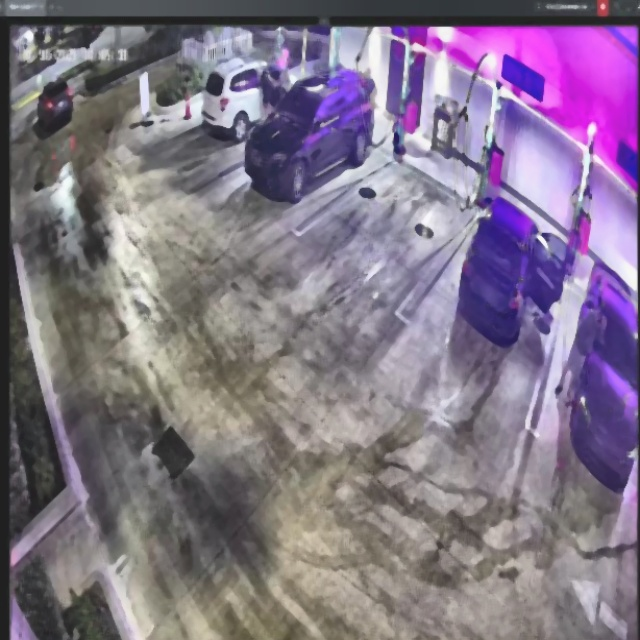Car: (244, 65, 375, 198), (458, 193, 568, 345)
